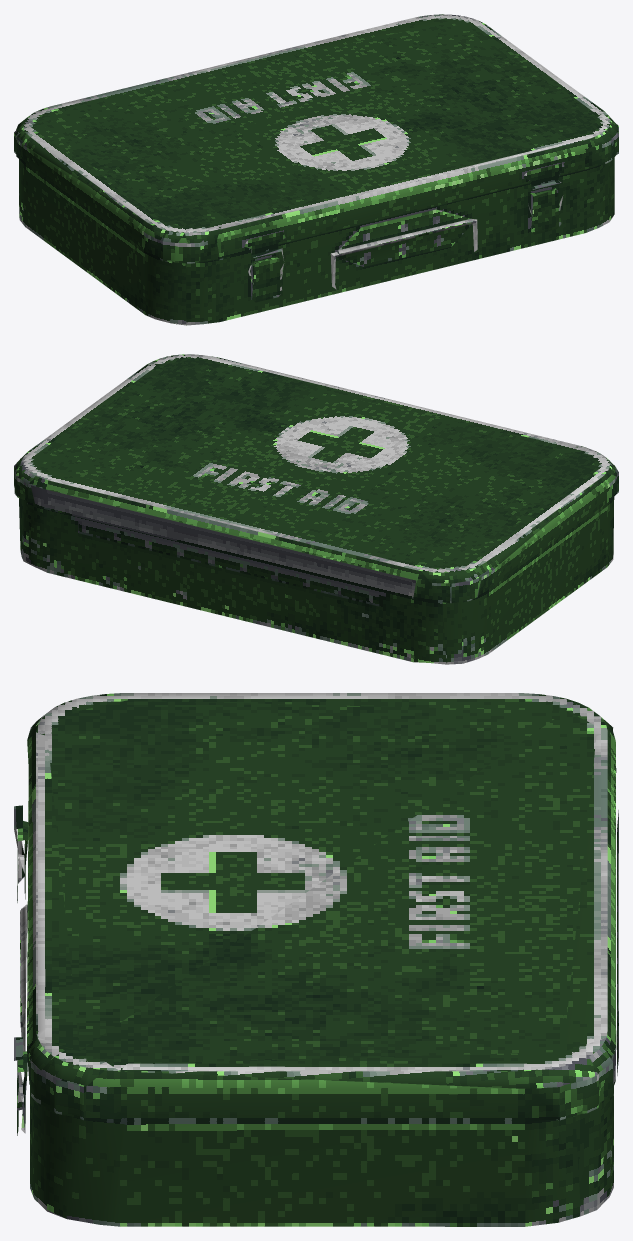
Rendered from medical_box.glb.
3 renders of one model, top to bottom at view 1: azimuth 30°, elevation 25°; view 2: azimuth 150°, elevation 25°; view 3: azimuth 270°, elevation 25°, orthographic. The views are drawn at different scales.
Parts seen in each view (by area): view 1: body; view 2: body; view 3: body.
Part boxes in pixels (x1,y1,x2,y2): body: (14, 14, 618, 325); body: (14, 354, 618, 664); body: (14, 693, 618, 1226).
Bounding box in the file's own units: 0.5231 × 0.0975 × 0.3445.
Materials: 1 (1 with a texture image).
